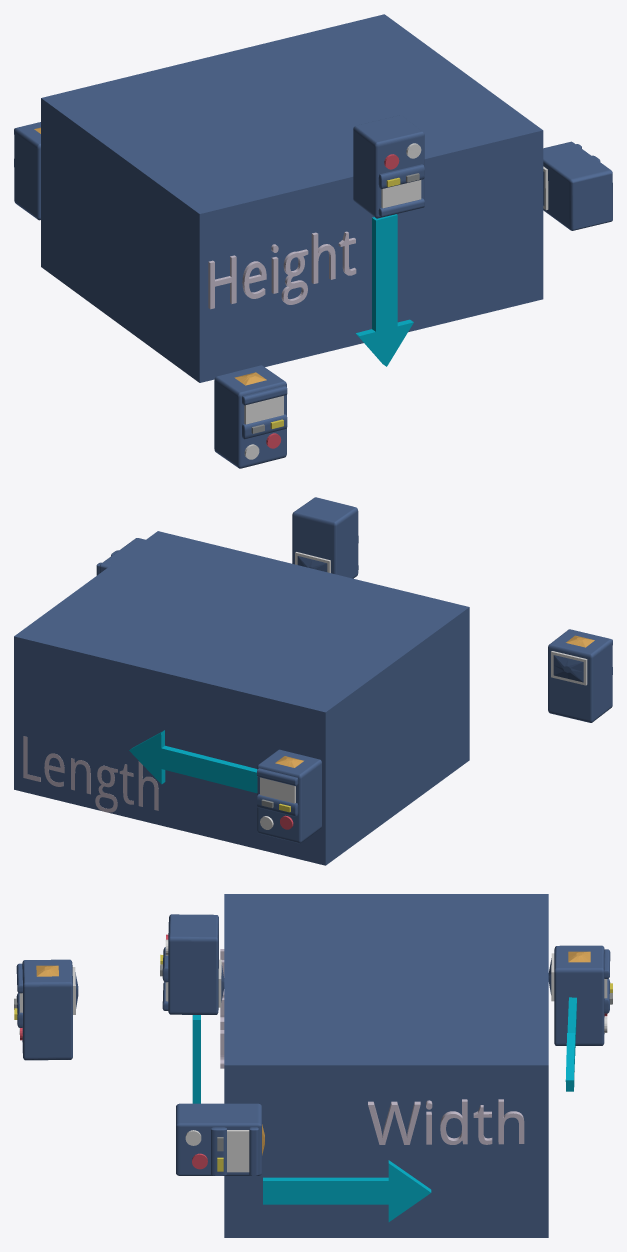
The model's file is 06 Senso - Mode 2.glb.
3 renders of one model, top to bottom at view 1: azimuth 30°, elevation 25°; view 2: azimuth 150°, elevation 25°; view 3: azimuth 270°, elevation 25°, orthographic. The views are drawn at different scales.
Parts seen in each view (by area): view 1: Mesh_Mesh_head_geo.001_lambert2SG.001; view 2: Mesh_Mesh_head_geo.001_lambert2SG.001; view 3: Mesh_Mesh_head_geo.001_lambert2SG.001.
Boxes of the visible parts, x1=… form: Mesh_Mesh_head_geo.001_lambert2SG.001: x1=14, y1=14, x2=612, y2=468; Mesh_Mesh_head_geo.001_lambert2SG.001: x1=14, y1=497, x2=612, y2=865; Mesh_Mesh_head_geo.001_lambert2SG.001: x1=14, y1=894, x2=612, y2=1237.
Size of the model in its own units: 133 by 66 by 148.
